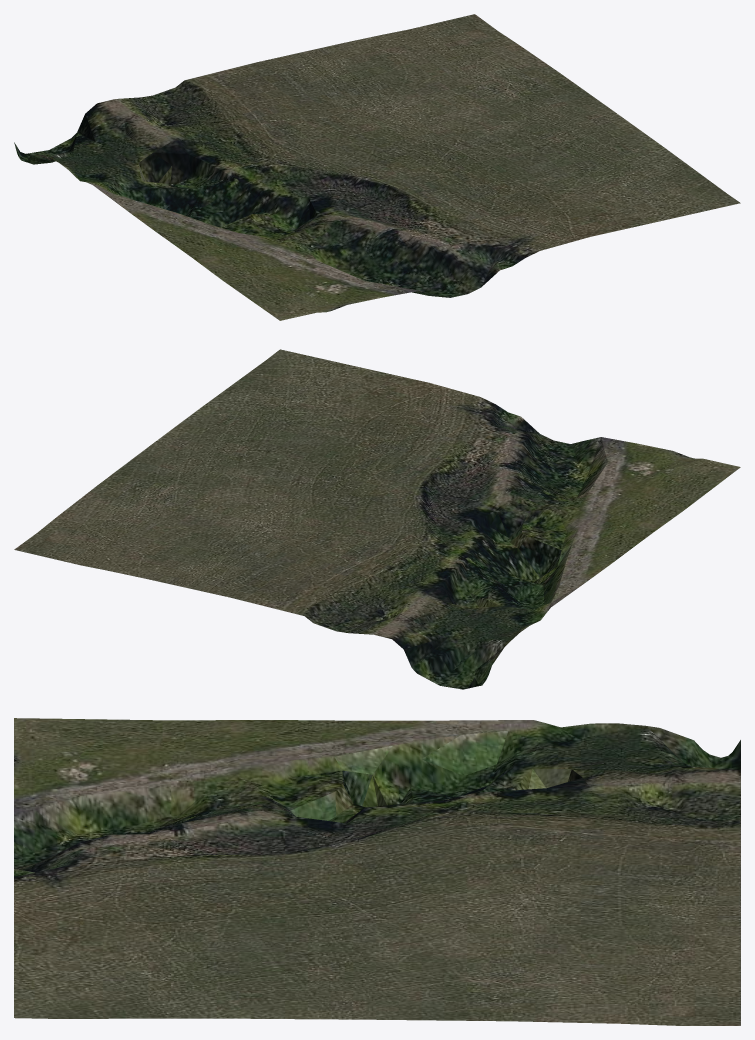
File: map_15_8183_13780.dae
The picture shows the model from 3 angles, top to bottom: view 1: azimuth 30°, elevation 25°; view 2: azimuth 150°, elevation 25°; view 3: azimuth 270°, elevation 25°; orthographic projection. The views are drawn at different scales.
Visible parts, largest first — view 1: Ter0; view 2: Ter0; view 3: Ter0.
Boxes of the visible parts, x1,y1,x2,y2 form: Ter0: [14, 14, 740, 320]; Ter0: [14, 349, 740, 689]; Ter0: [14, 718, 740, 1025].
Bounding box in the file's own units: 63.87 × 63.88 × 6.12.
Materials: 2 (2 with a texture image).
